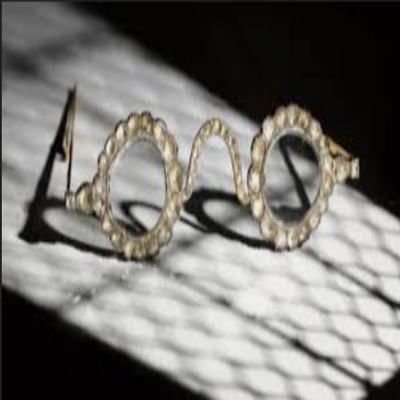glasses: (59, 80, 361, 268)
